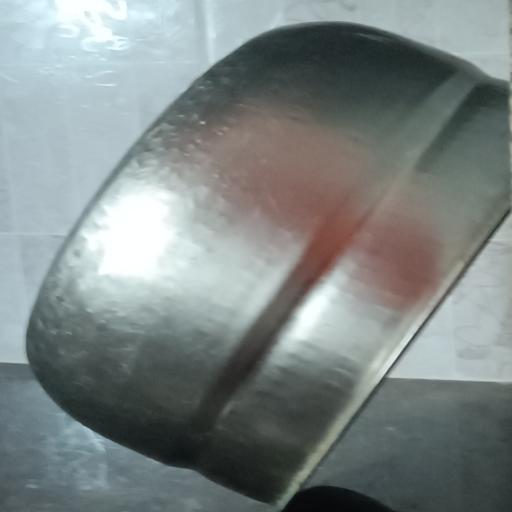vessel: (27, 23, 510, 502)
